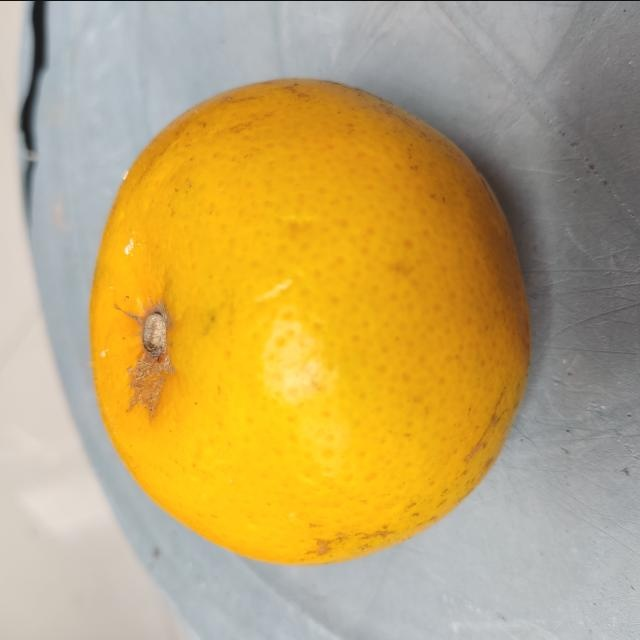agrume: (89, 75, 535, 565)
